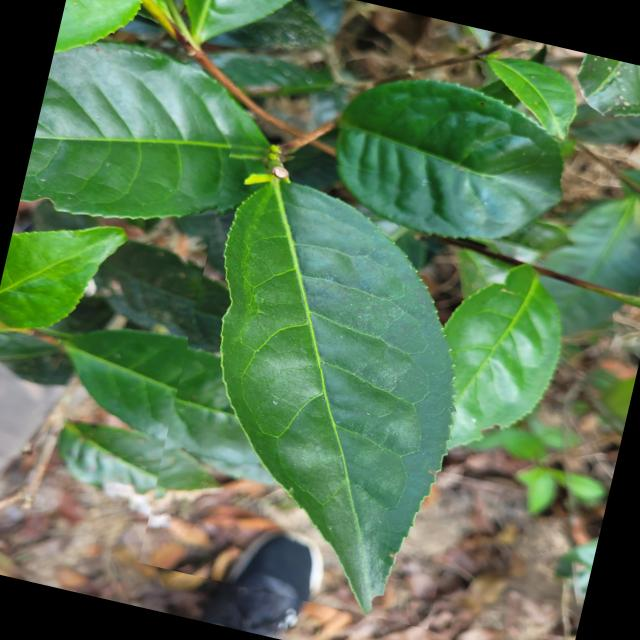Category D(7+ days, Not for Tea): (134, 135, 526, 629)
